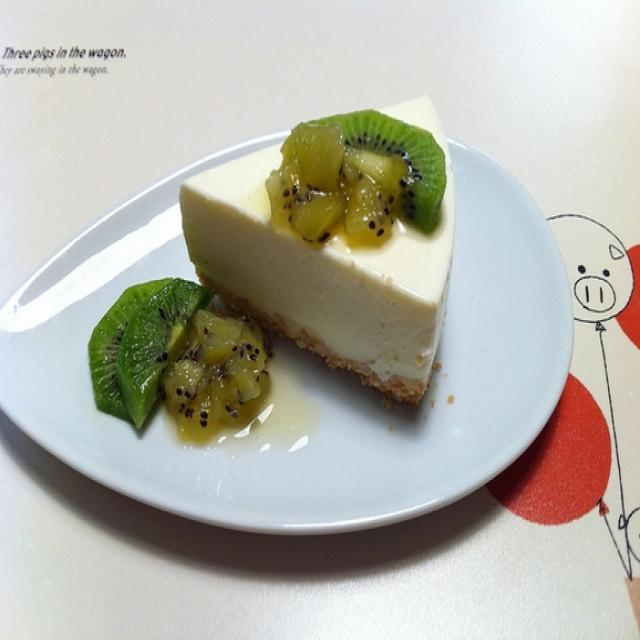Rare cheese cake: (130, 81, 533, 445)
